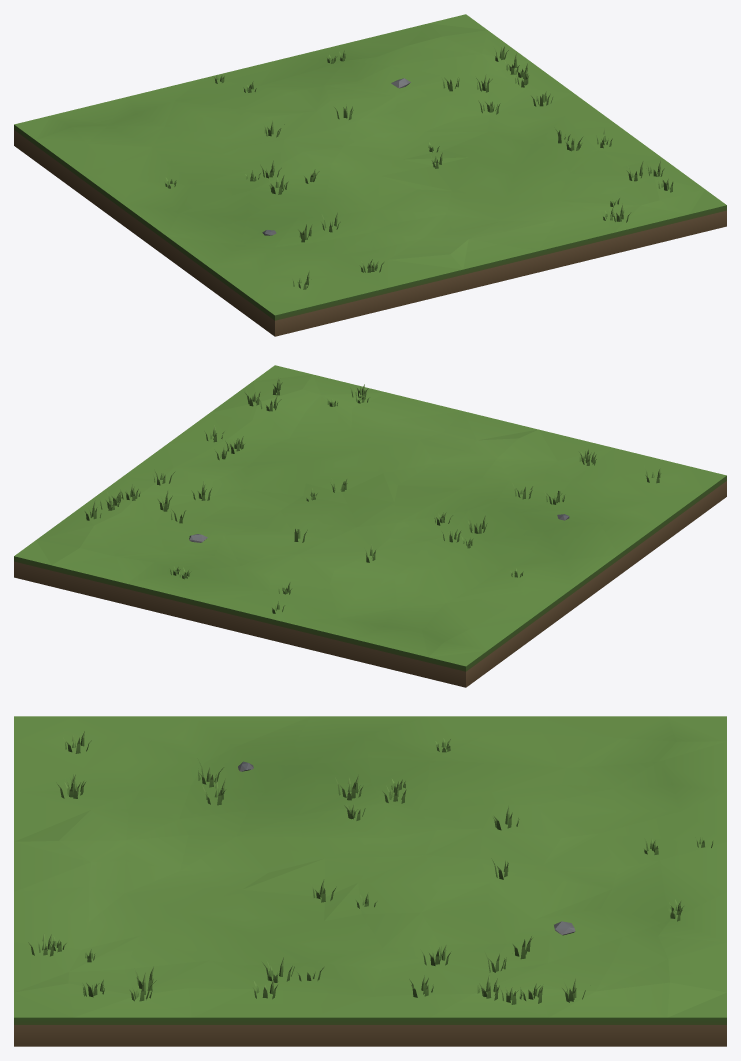
Rendered from airfield-grass-tile.glb.
3 renders of one model, top to bottom at view 1: azimuth 30°, elevation 25°; view 2: azimuth 150°, elevation 25°; view 3: azimuth 270°, elevation 25°, orthographic. The views are drawn at different scales.
Parts seen in each view (by area): view 1: airfield_grass_tile; view 2: airfield_grass_tile; view 3: airfield_grass_tile.
Part boxes in pixels (left/top/right/bottom): airfield_grass_tile: left=14, top=14, right=726, bottom=336; airfield_grass_tile: left=14, top=365, right=726, bottom=687; airfield_grass_tile: left=14, top=716, right=726, bottom=1046.
Bounding box in the file's own units: 4 × 0.3694 × 4.
